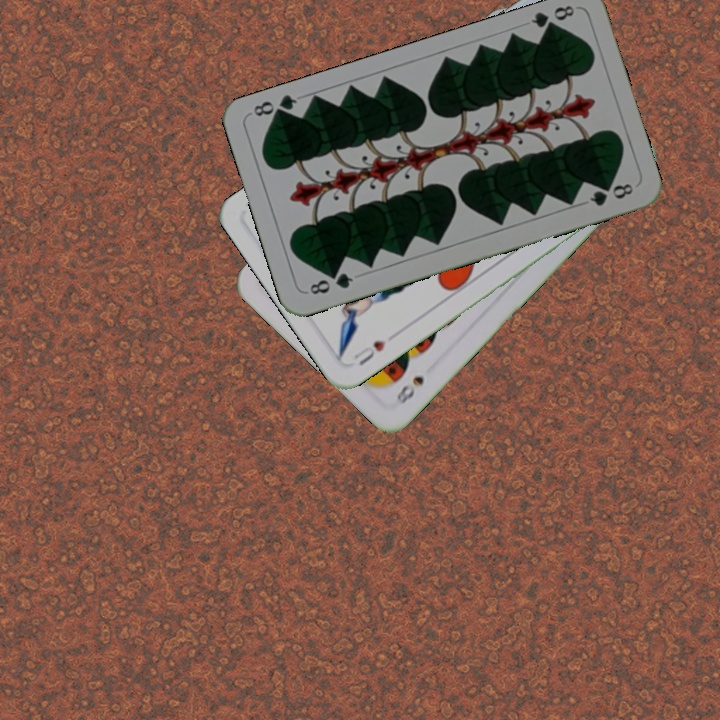G8: (527, 1, 577, 36), (305, 268, 356, 298)
HU: (349, 336, 389, 368)
S8: (392, 372, 427, 411)
